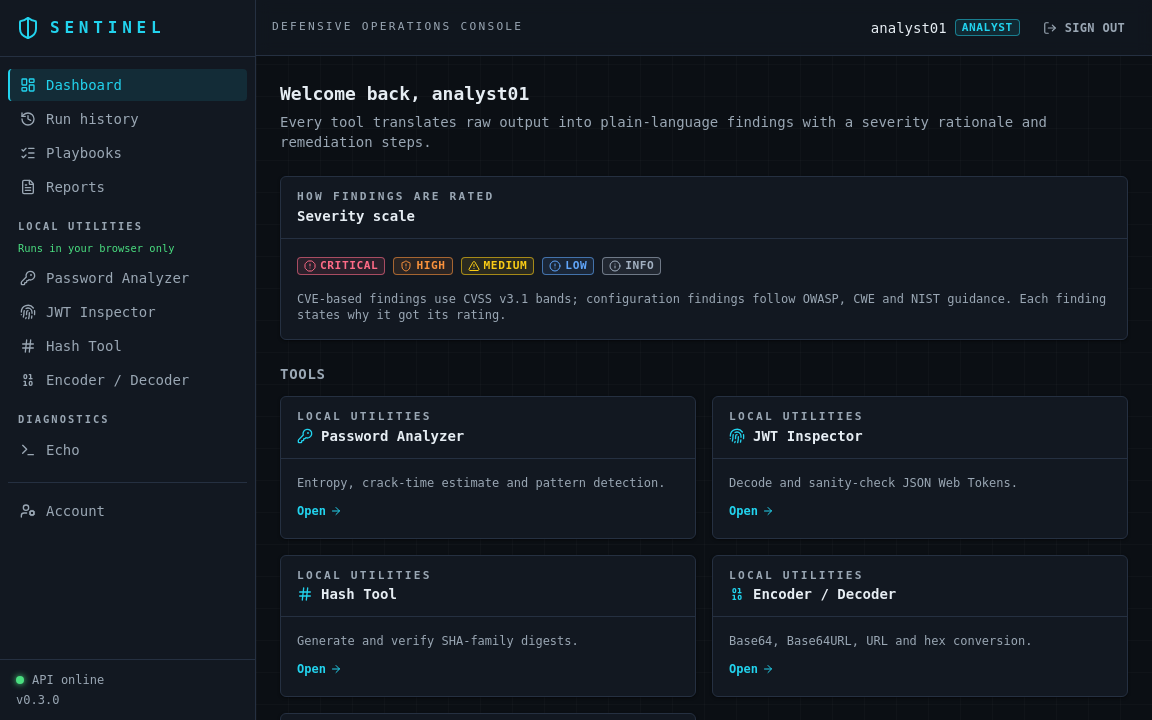
Test: shell and navigation › navigates to a tool page with its parameter schema
Click the link "Echo".
click(50, 450)  # box [20,442,80,458]
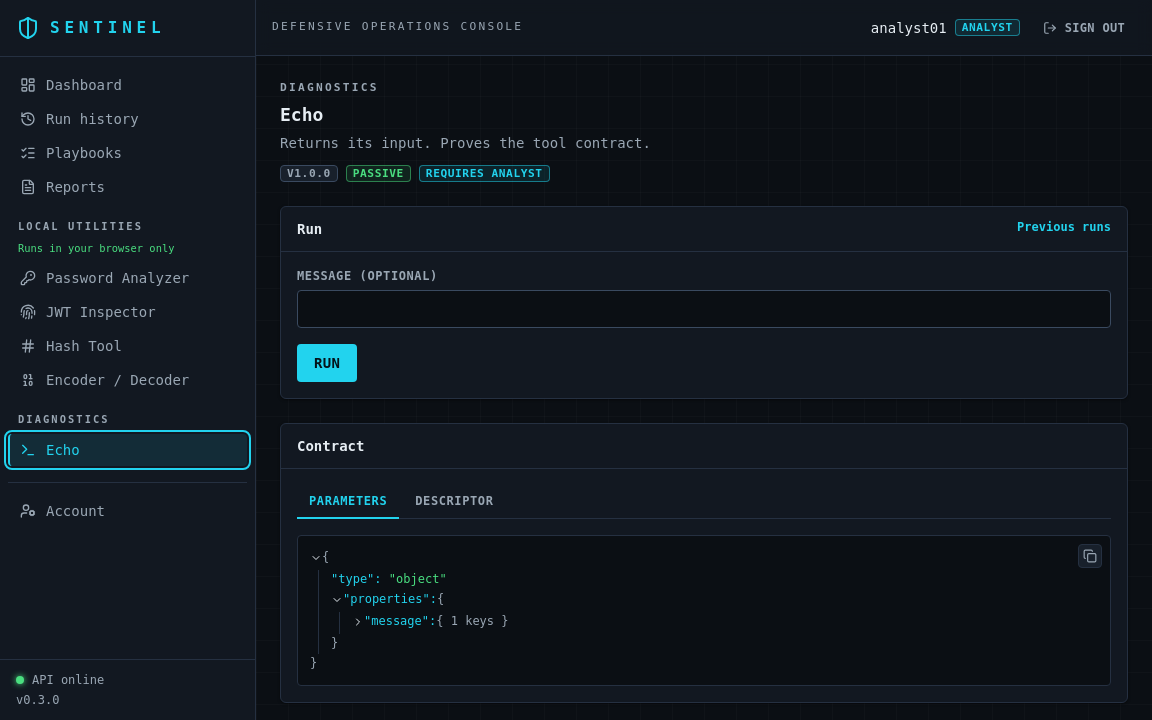
Expected: the heading "Echo" is shown, [280,104,323,125]
Expected: the element named "Parameter JSON Schema" is shown, [310,548,1098,673]
